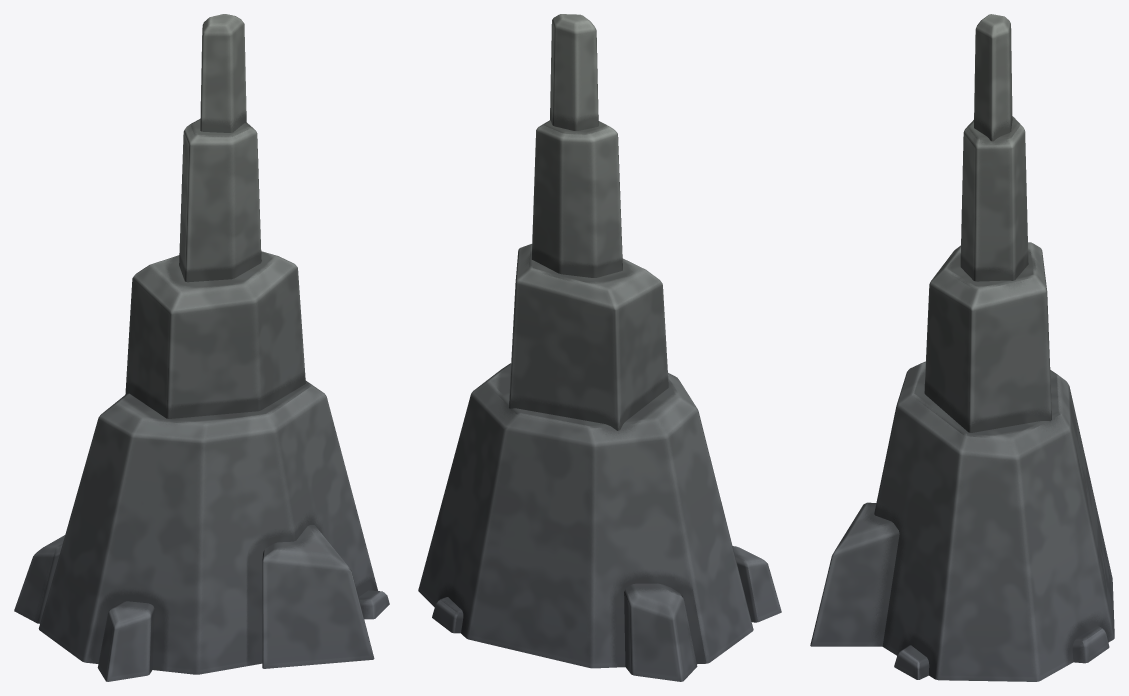
File: spire_2.glb
The picture shows the model from 3 angles, left to right: view 1: azimuth 30°, elevation 25°; view 2: azimuth 150°, elevation 25°; view 3: azimuth 270°, elevation 25°; orthographic projection.
Visible parts, largest first — view 1: spire_2; view 2: spire_2; view 3: spire_2.
Boxes of the visible parts, box(x1,y1,x2,y2) form: spire_2: box(14, 14, 389, 681); spire_2: box(418, 14, 781, 681); spire_2: box(810, 14, 1114, 681).
Bounding box in the file's own units: 4.2 × 8 × 3.7.
Materials: 1 (1 with a texture image).
